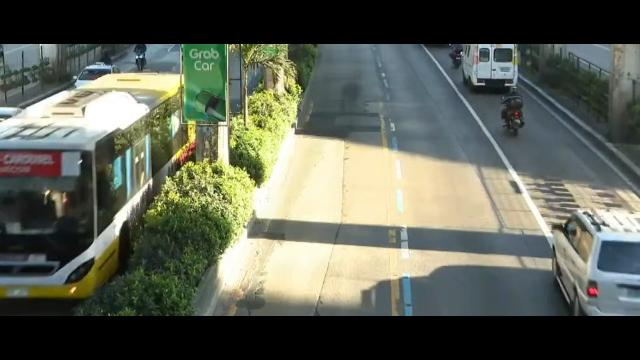bus: (0, 68, 211, 304)
car: (538, 198, 640, 315), (74, 61, 120, 86)
motorcycle: (501, 86, 524, 136), (130, 44, 149, 72), (447, 45, 466, 69)
van: (461, 44, 520, 93)
